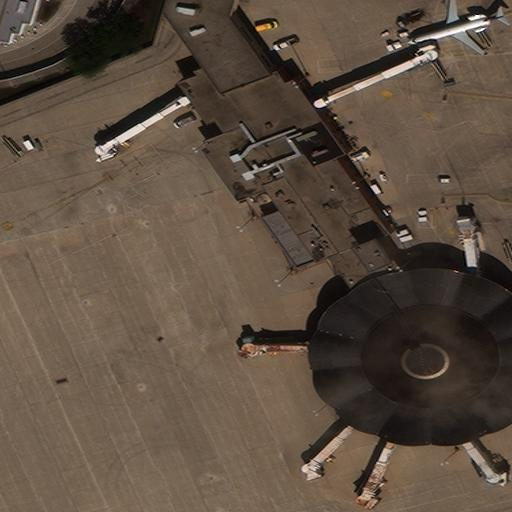Medium Civil Transport: (407, 0, 504, 55)
